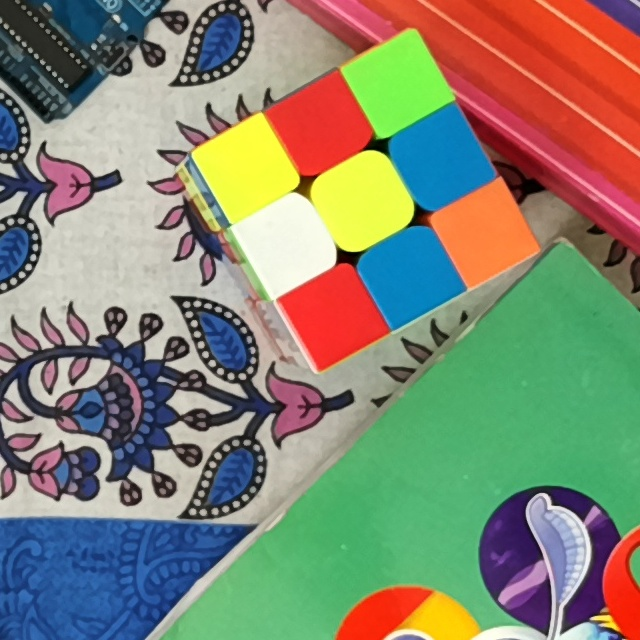tile: (254, 215, 316, 271), (378, 247, 439, 303), (303, 288, 363, 344), (365, 58, 427, 112), (332, 174, 394, 228), (458, 203, 513, 263), (290, 99, 347, 156), (414, 129, 470, 185), (218, 140, 273, 194)
